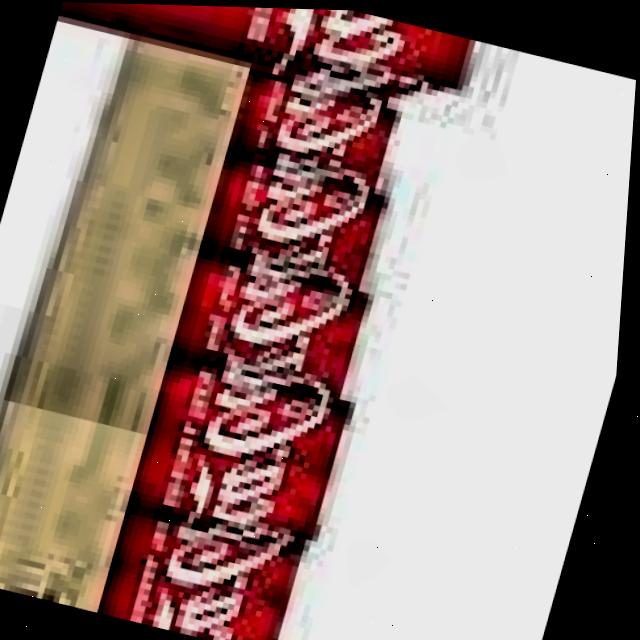metal: (48, 1, 499, 132), (123, 341, 374, 548), (164, 237, 394, 401), (193, 143, 410, 304), (102, 488, 321, 640), (214, 47, 425, 201)
